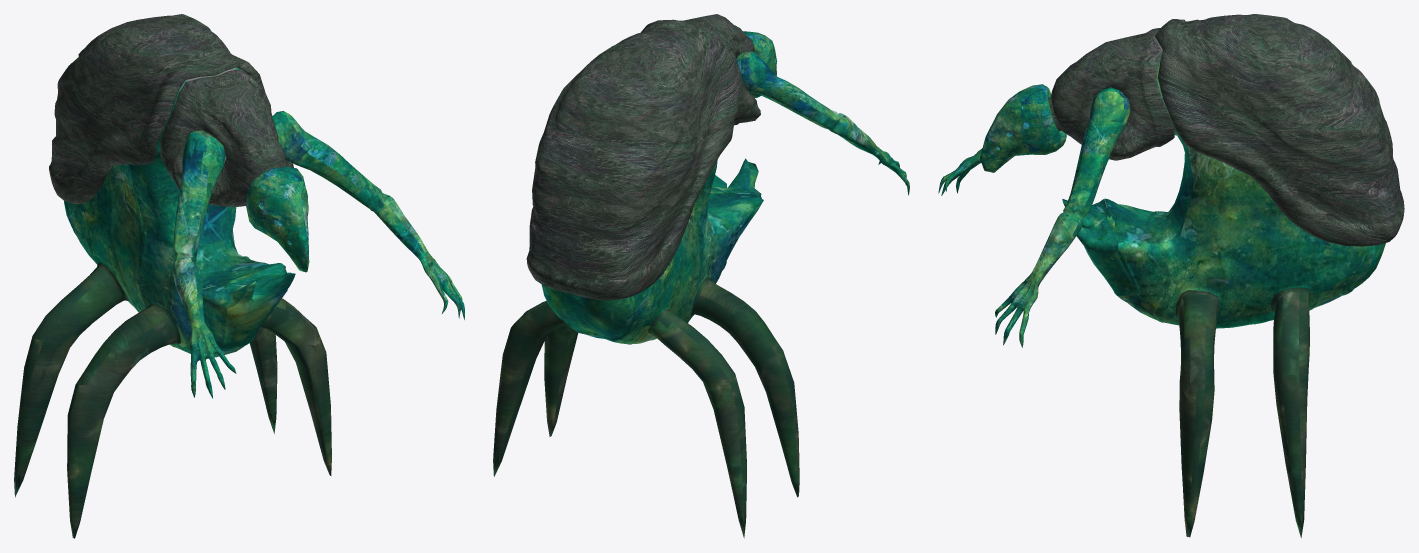
The model's file is Aranar.0023.obj.
The picture shows the model from 3 angles, left to right: view 1: azimuth 30°, elevation 25°; view 2: azimuth 150°, elevation 25°; view 3: azimuth 270°, elevation 25°; orthographic projection. The views are drawn at different scales.
Bounding box in the file's own units: 2.67 × 3.83 × 3.57.
5 materials, 4 textured.
